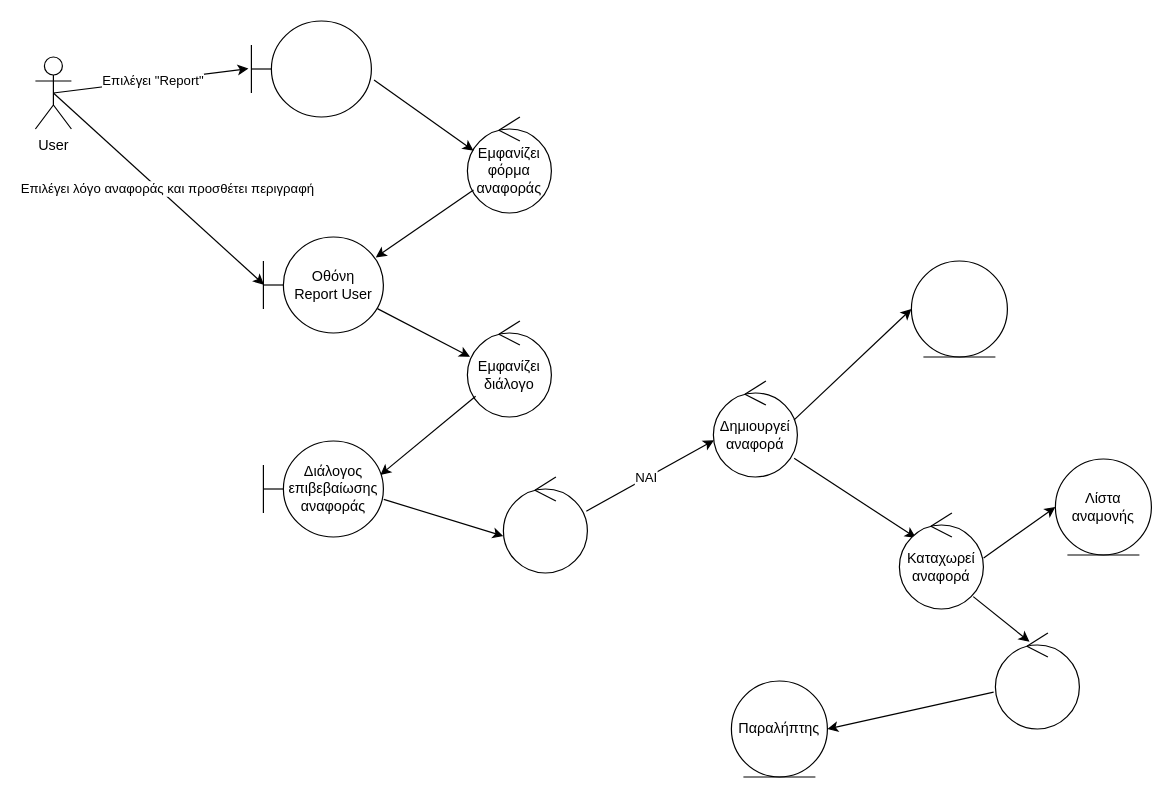
The diagram is 1172 pixels wide and 798 high, and some of its shapes have lost their labels. The centre of each missing label's shape, as x and y in pixels:
Αναθέτει ποινή: (1036,680)
Αναφορά: (958,308)
Επιβεβαίωση;: (544,524)
Οθόνη User Details: (310,68)
